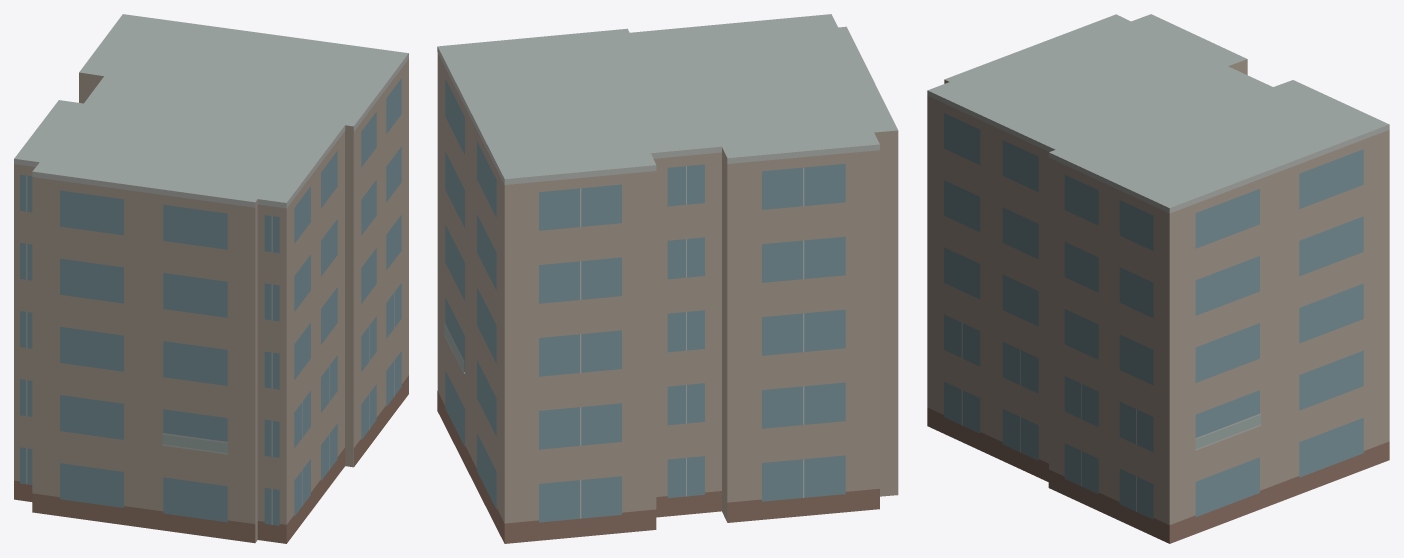
File: survey-upis-32615831.glb
The picture shows the model from 3 angles, left to right: view 1: azimuth 30°, elevation 25°; view 2: azimuth 150°, elevation 25°; view 3: azimuth 270°, elevation 25°; orthographic projection. The views are drawn at different scales.
Visible parts, largest first — view 1: survey-upis-32615831.tmp; view 2: survey-upis-32615831.tmp; view 3: survey-upis-32615831.tmp.
Boxes of the visible parts, x1,y1,x2,y2 form: survey-upis-32615831.tmp: (14, 14, 408, 543); survey-upis-32615831.tmp: (437, 14, 898, 543); survey-upis-32615831.tmp: (927, 14, 1389, 543).
Size of the model in its own units: 19.12 by 15.4 by 19.22.
